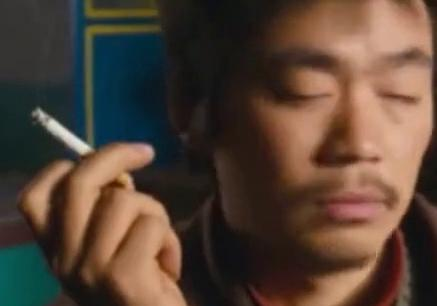smoke: (28, 106, 128, 187)
